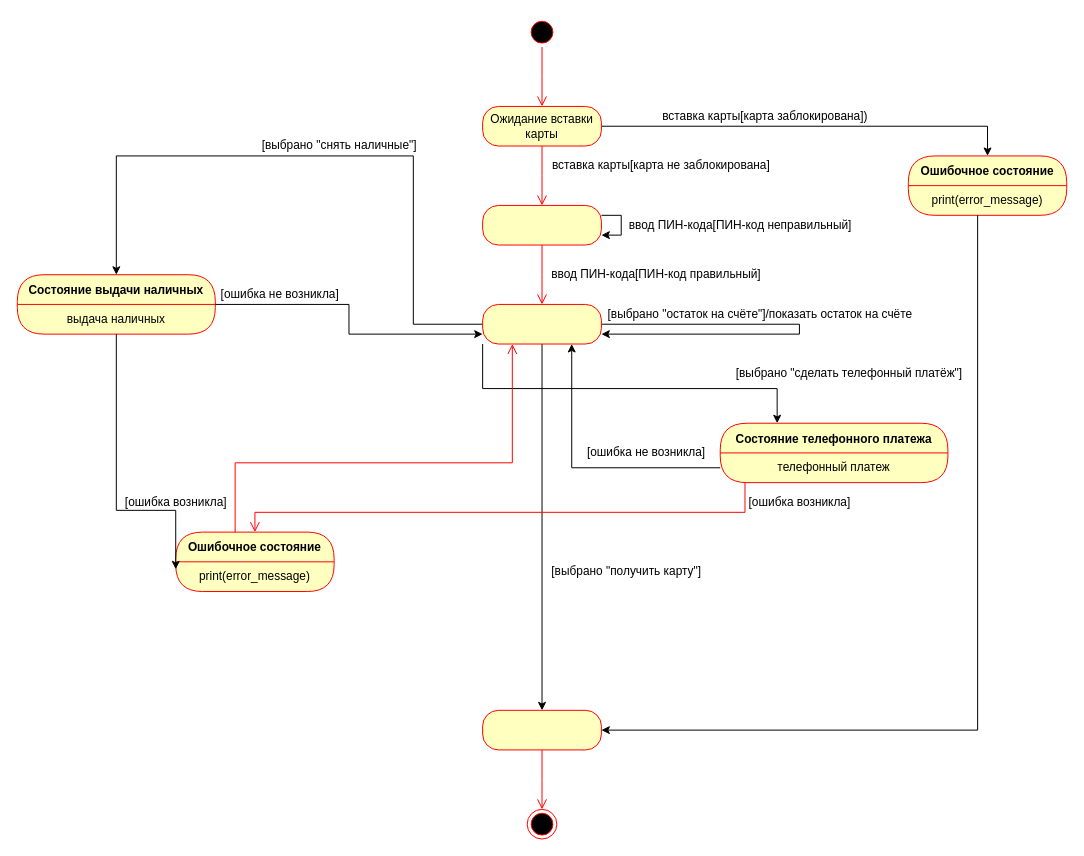
Some shapes in this 1084 by 856 pixel diagram are drawn without their labels. The shapes that lost their labels are listed below. From the top down, each one's centre as x and y in pixels, then its label:
At (541,224): "Ожидание ввода ПИН-кода".
At (541,323): "Ожидание выбора пользователя".
At (541,729): "Получение карты".
